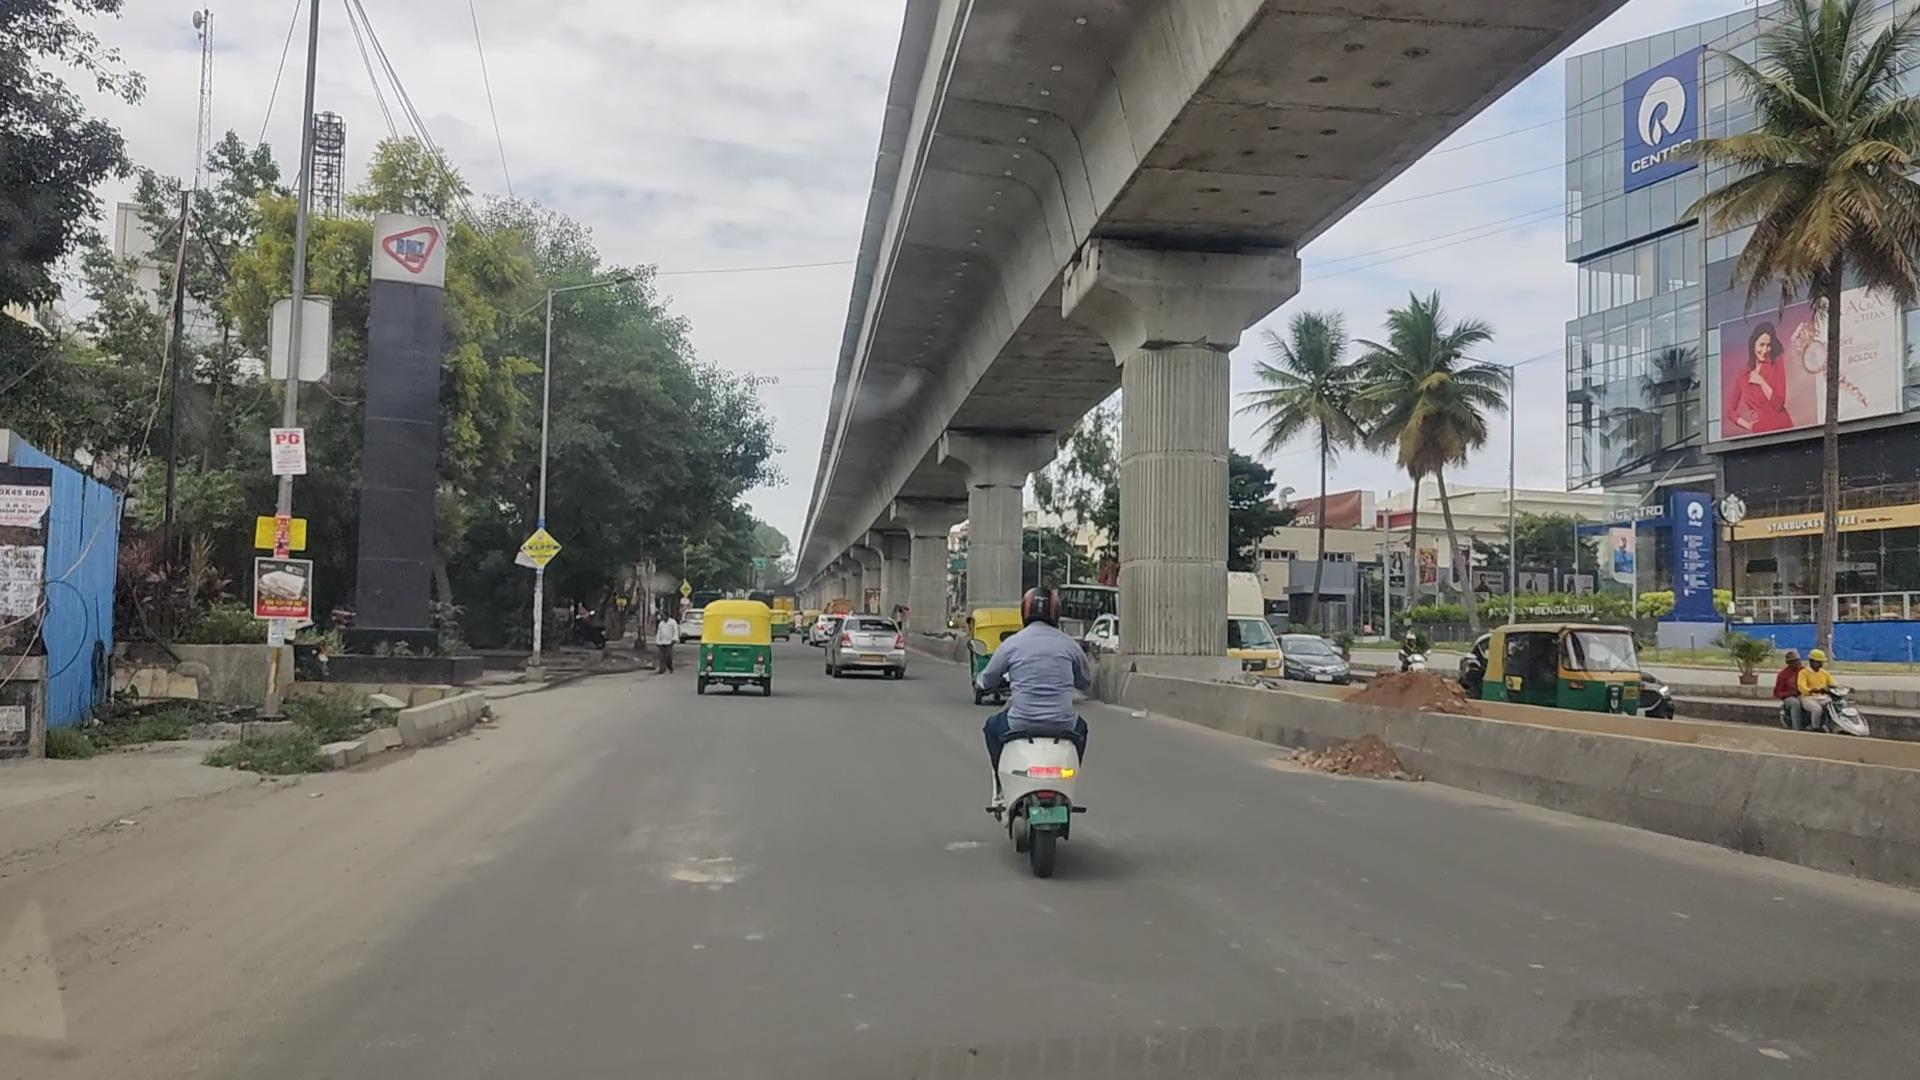LMV: (978, 556, 1104, 885), (704, 596, 787, 691)
